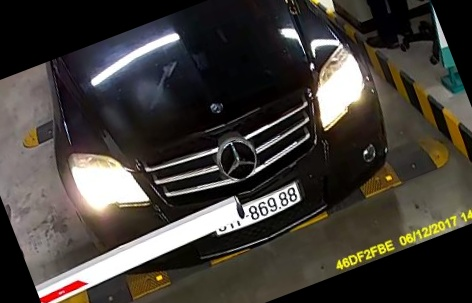plate: (201, 179, 310, 237)
